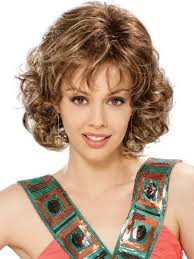s.white: (101, 106, 127, 139)
